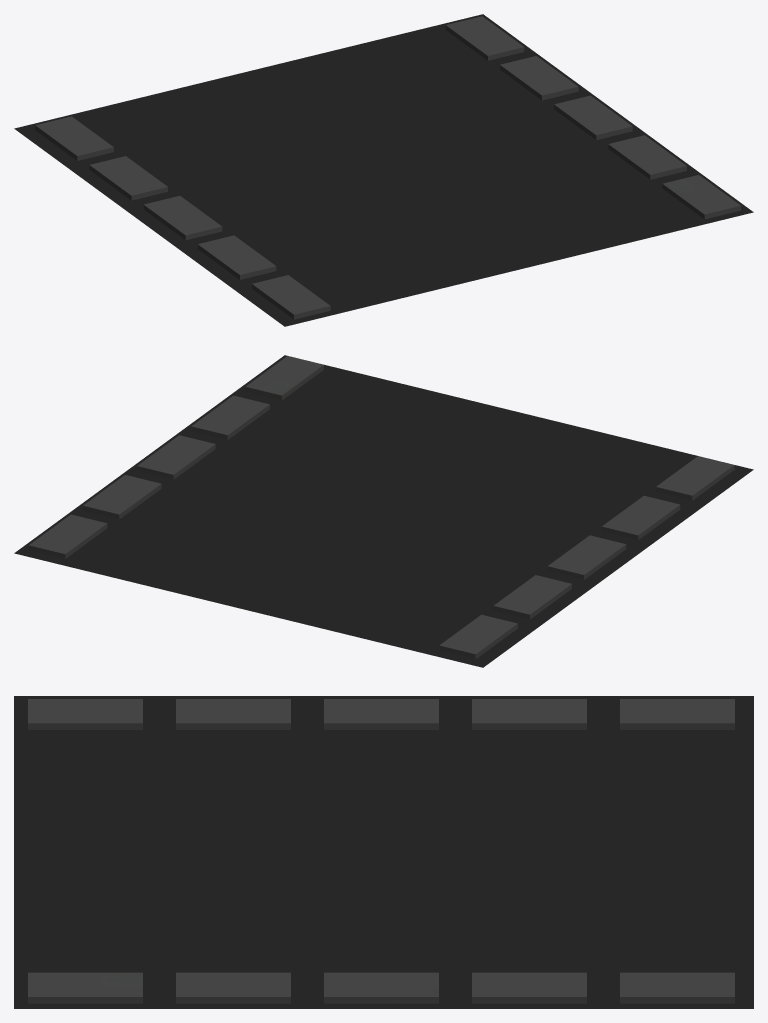
Rendered from Floortile_7.fbx.
3 views of the same model, one above another, from view 1: azimuth 30°, elevation 25°; view 2: azimuth 150°, elevation 25°; view 3: azimuth 270°, elevation 25° (orthographic). The views are drawn at different scales.
Visible parts, largest first — view 1: Plane.008; view 2: Plane.008; view 3: Plane.008.
Part boxes in pixels (<box>): Plane.008: <box>14,14,753,326</box>; Plane.008: <box>14,355,753,667</box>; Plane.008: <box>14,696,753,1008</box>.
Size of the model in its own units: 400 by 4 by 400.
Materials: 1 (1 with a texture image).
